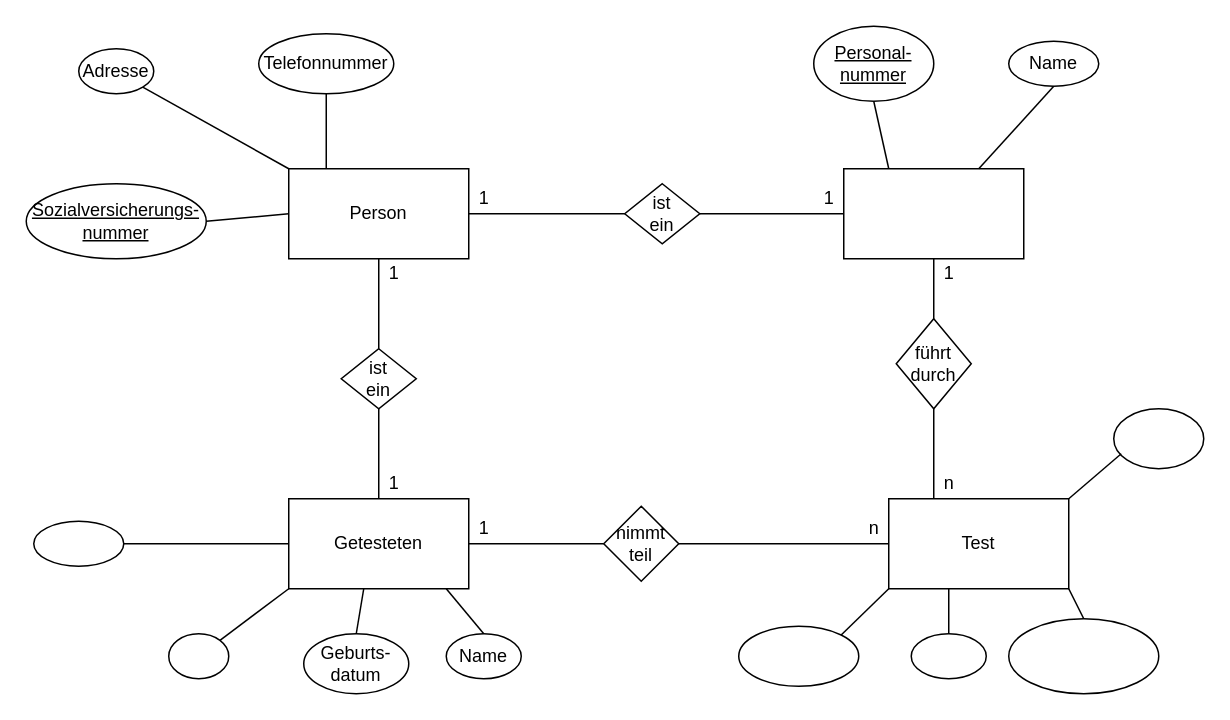
This 1230x720 diagram has some shape labels left out. The centre of each missing label's shape, as x and y in pixels:
Datum: the point at 1158,438
Diagnostiker:in: the point at 933,213
Durchführungs- nummer: the point at 1083,655
Ergebnis: the point at 798,655
Gewicht: the point at 78,543
ID: the point at 198,655
Profil: the point at 948,655
